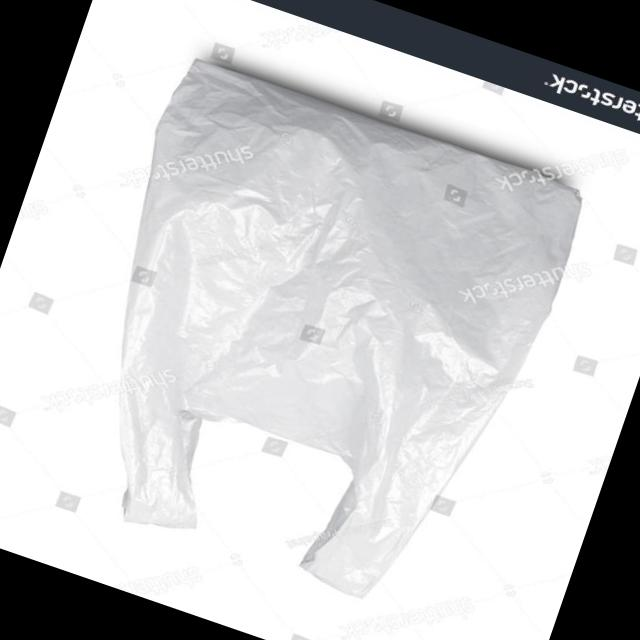KantongPlastik: (29, 48, 596, 636)
